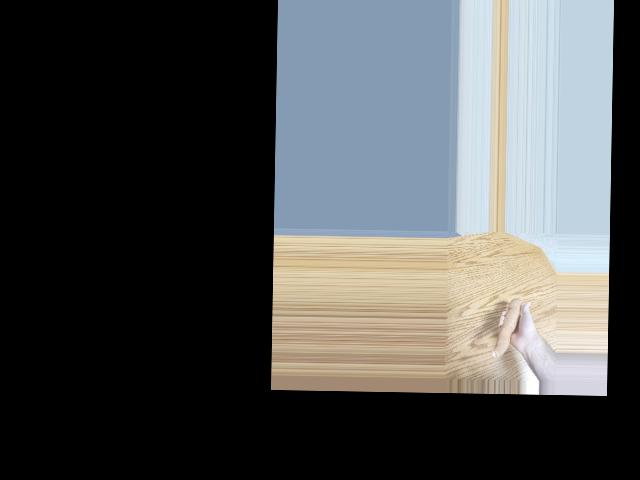sweet_potato: (492, 297, 522, 360)
